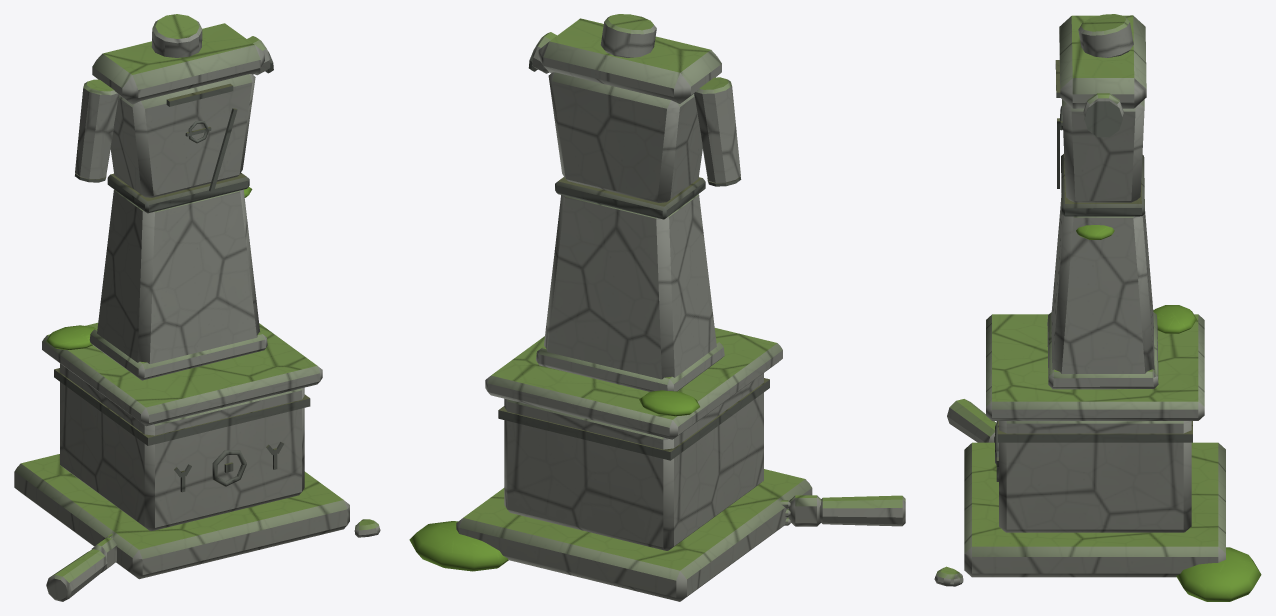
The model's file is broken_statue_body.glb.
The picture shows the model from 3 angles, left to right: view 1: azimuth 30°, elevation 25°; view 2: azimuth 150°, elevation 25°; view 3: azimuth 270°, elevation 25°; orthographic projection. The views are drawn at different scales.
Visible parts, largest first — view 1: broken_statue_body; view 2: broken_statue_body; view 3: broken_statue_body.
Part boxes in pixels (x1=…): broken_statue_body: x1=14, y1=14, x2=380, y2=601; broken_statue_body: x1=409, y1=14, x2=905, y2=601; broken_statue_body: x1=934, y1=14, x2=1261, y2=601.
Size of the model in its own units: 2.67 by 3.72 by 2.12.
3 materials, 3 textured.
